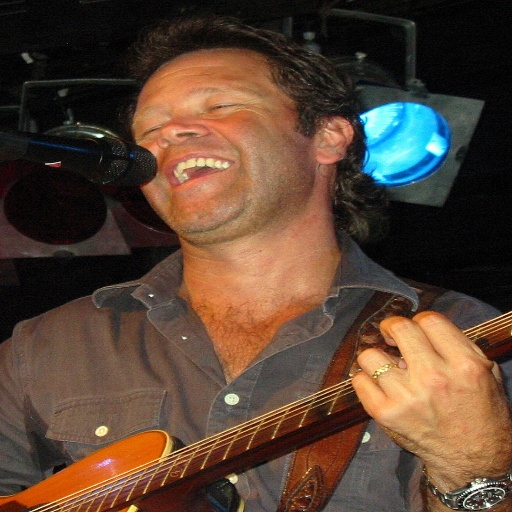hand: (338, 302, 506, 448)
